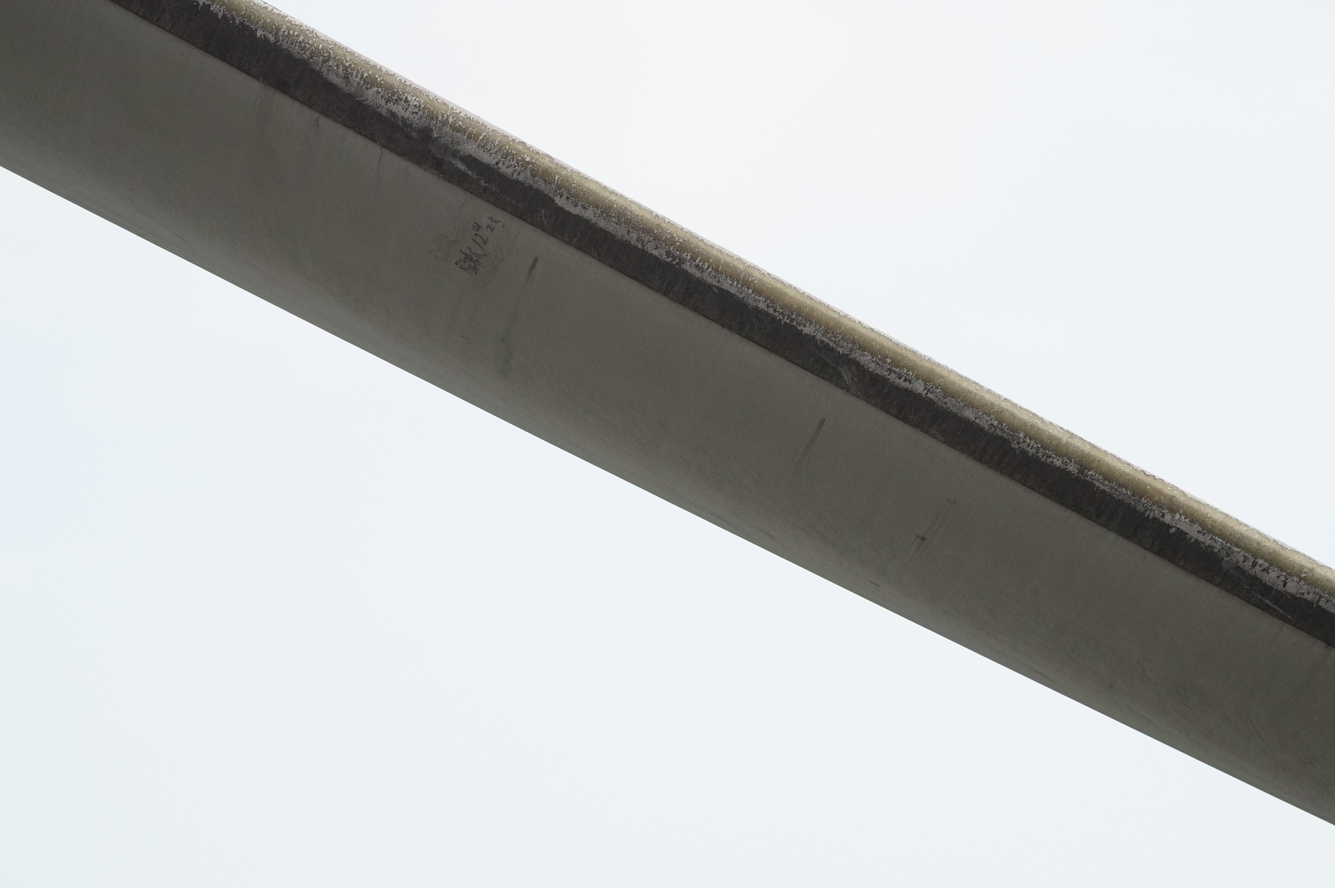Damage: (189, 0, 1335, 602)
